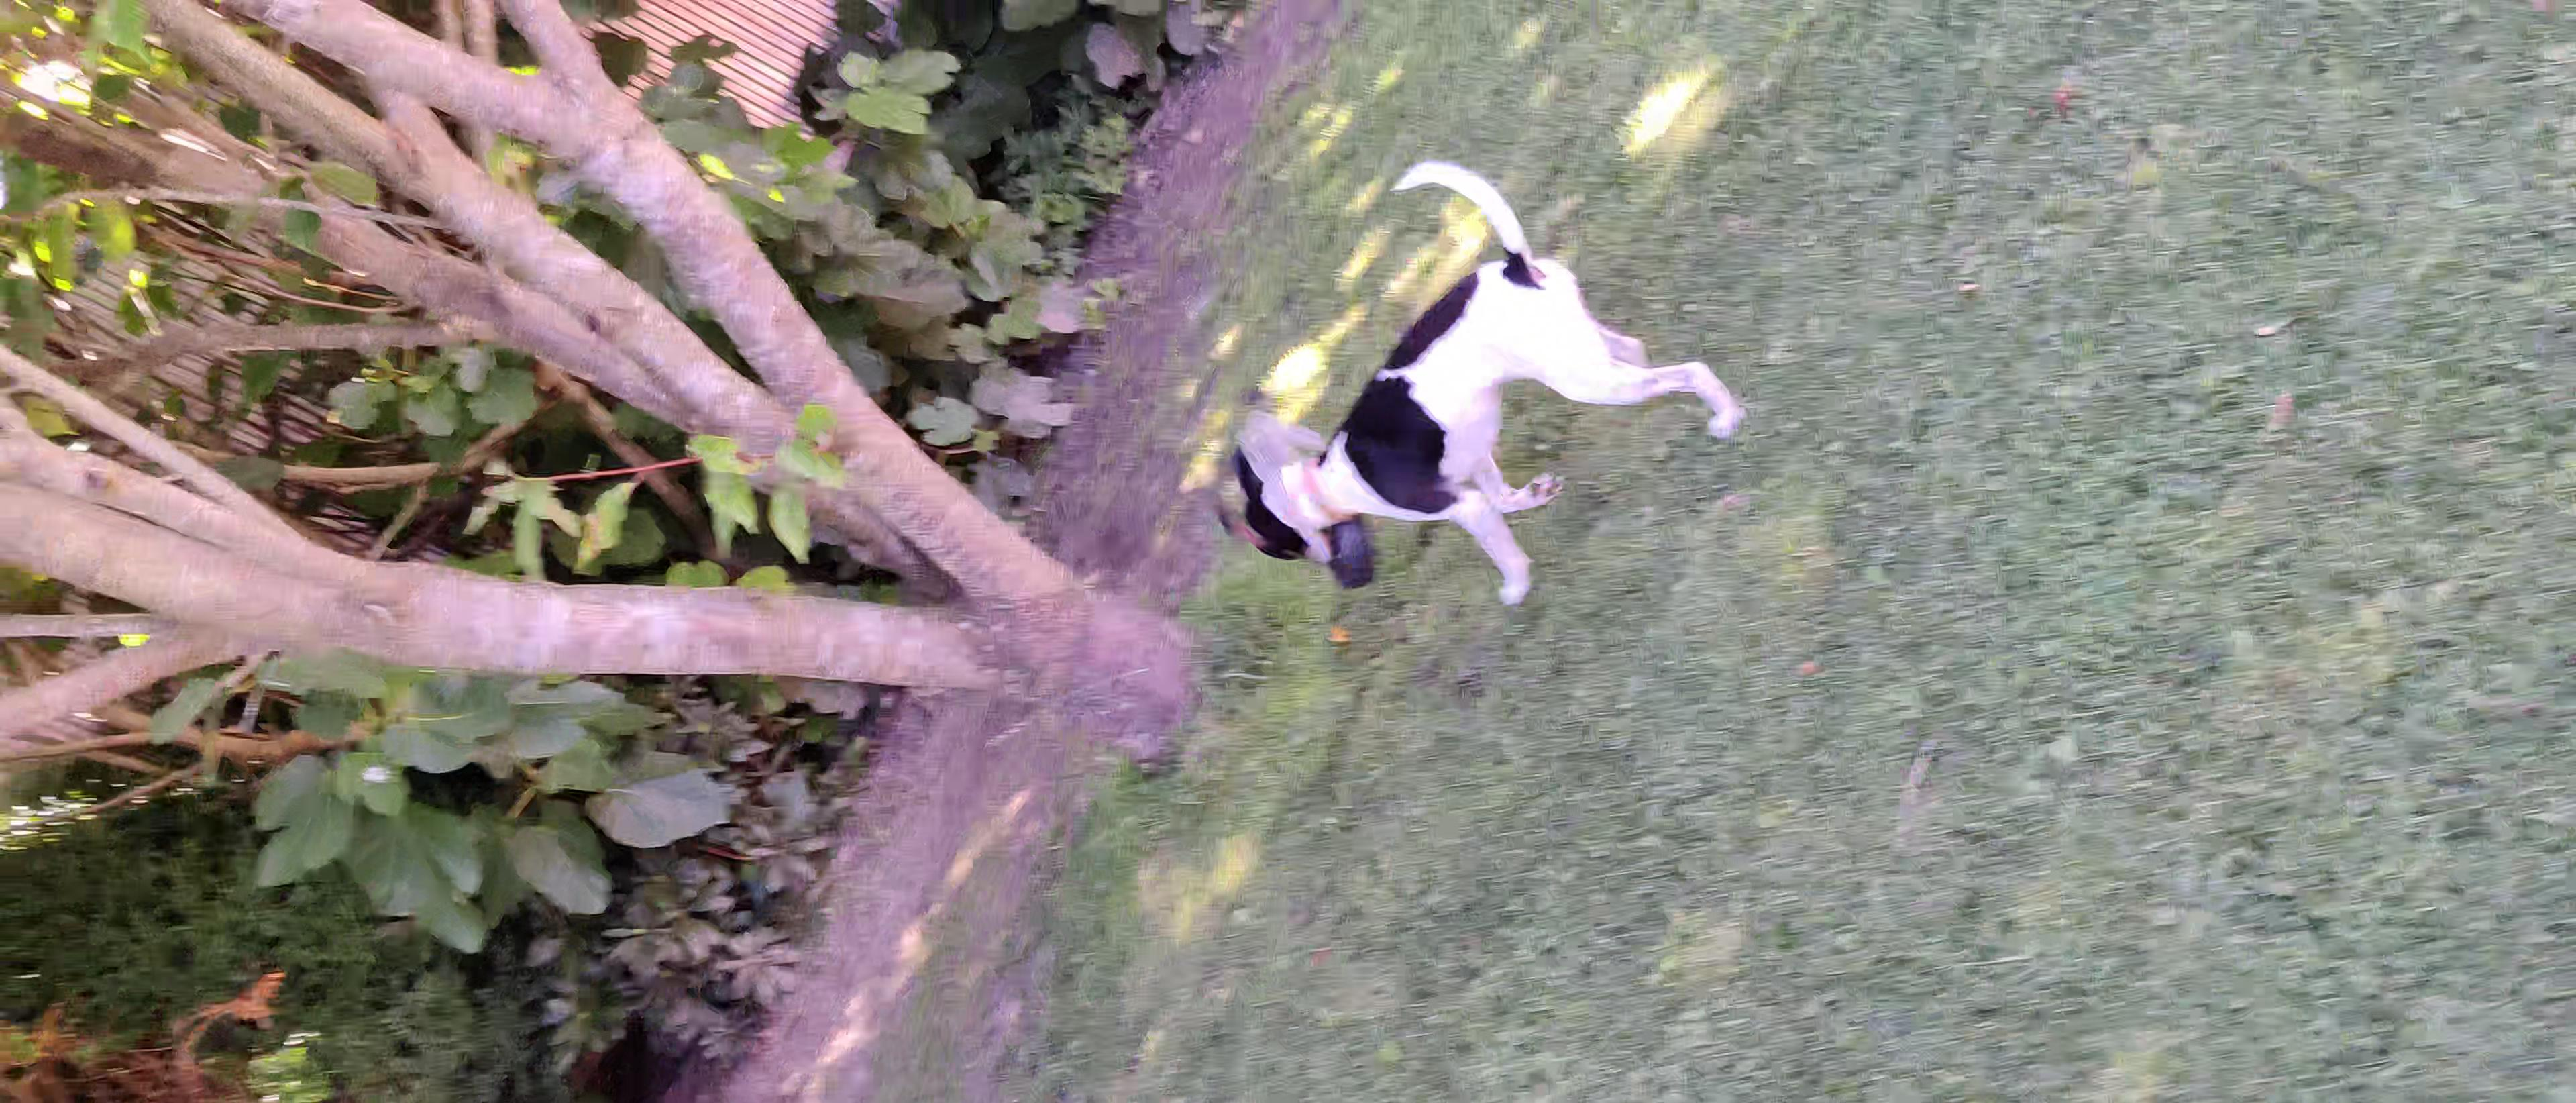Dog: (1201, 148, 1758, 623)
